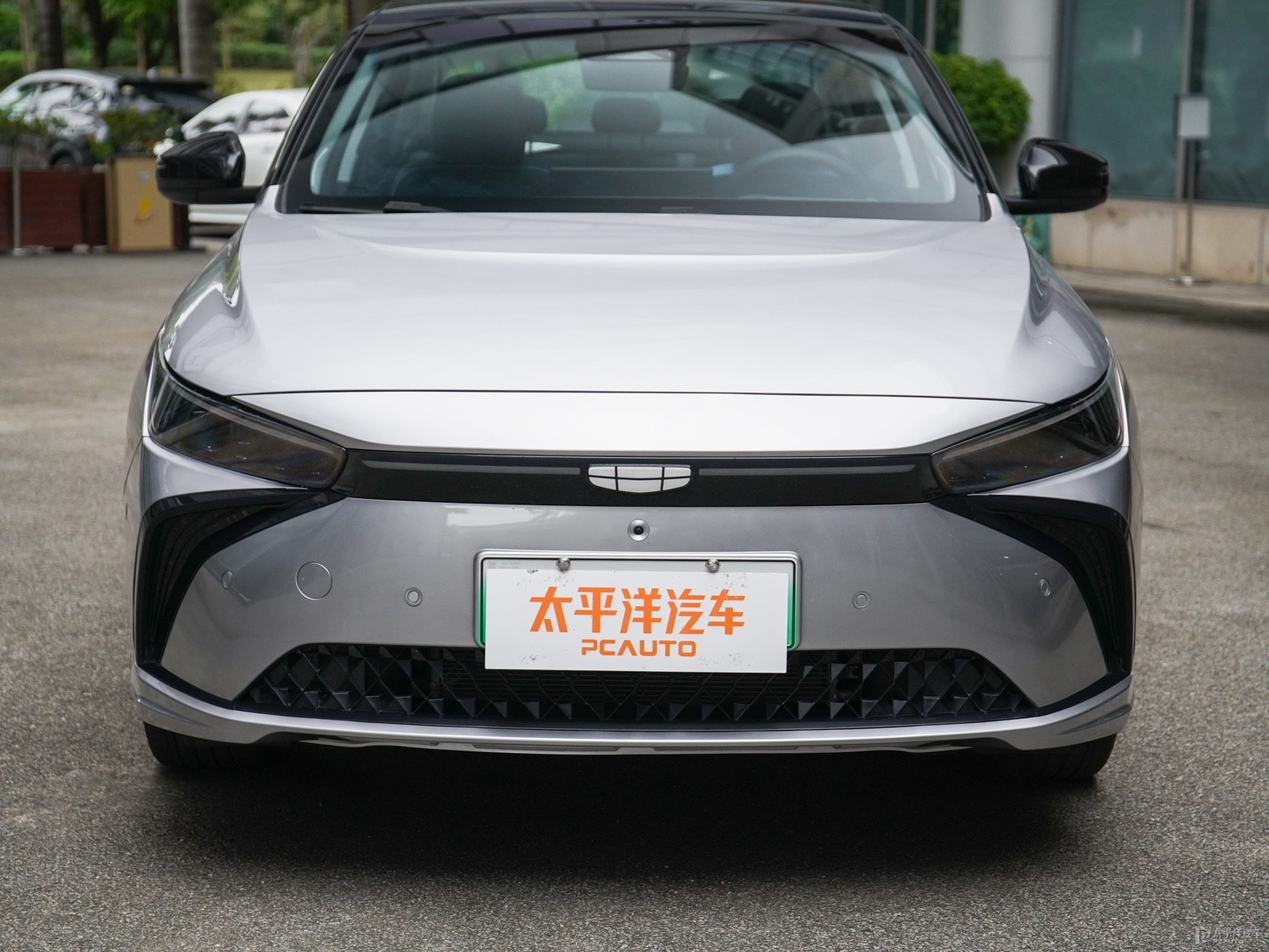GEOMETRY: (588, 467, 690, 492)
